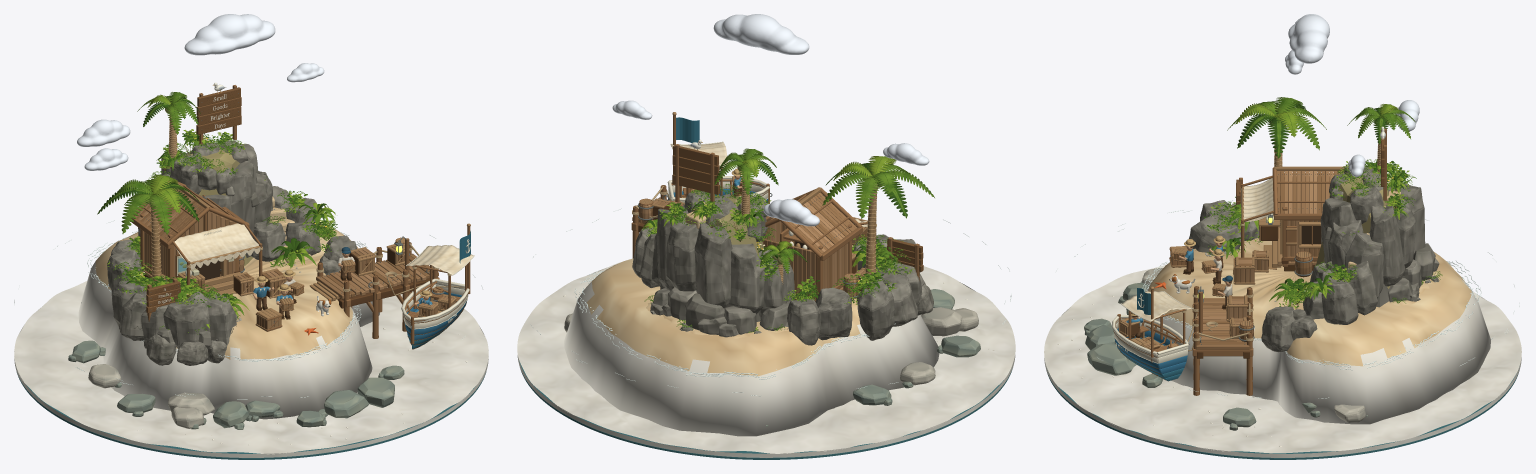
File: harbor-lite.glb
3 views of the same model, side by side, from view 1: azimuth 30°, elevation 25°; view 2: azimuth 150°, elevation 25°; view 3: azimuth 270°, elevation 25° (orthographic). The views are drawn at different scales.
Parts seen in each view (by area): view 1: SEABED | Sea floor | warm white fine coral sand, STATIC | REFINED | warm weathered granite, STATIC | Wet ivory sand on submerged beach slope, STATIC | Harbor | sand, STATIC | REFINED | living palm green, SEABED | Harbor | rock_dark, CLOUDS | Cloud | soft warm ivory.001, STATIC | Harbor | wood.001, STATIC | REFINED | deep palm green, STATIC | Harbor | wood_light, STATIC | REFINED | sunlit palm green, STATIC | Deep weathered sign boards (+19 smaller); view 2: STATIC | Wet ivory sand on submerged beach slope, SEABED | Sea floor | warm white fine coral sand, STATIC | REFINED | warm weathered granite, STATIC | Harbor | sand, STATIC | REFINED | living palm green, CLOUDS | Cloud | soft warm ivory.001, STATIC | REFINED | deep palm green, STATIC | Harbor | wood.001, STATIC | REFINED | sunlit palm green, SEABED | White sand cut edge, STATIC | Deep weathered sign boards, SEABED | Harbor | rock (+15 smaller); view 3: SEABED | Sea floor | warm white fine coral sand, STATIC | REFINED | warm weathered granite, STATIC | Wet ivory sand on submerged beach slope, STATIC | Harbor | sand, STATIC | REFINED | living palm green, STATIC | Harbor | wood.001, STATIC | REFINED | deep palm green, SEABED | Harbor | rock_dark, STATIC | Harbor | wood_light, CLOUDS | Cloud | soft warm ivory.001, STATIC | REFINED | sunlit palm green, SEABED | White sand cut edge (+19 smaller).
Part boxes in pixels (x1,y1,x2,y2): SEABED | Sea floor | warm white fine coral sand: (14,281,488,454); STATIC | REFINED | warm weathered granite: (107,140,356,365); STATIC | Wet ivory sand on submerged beach slope: (78,261,379,419); STATIC | Harbor | sand: (95,196,358,359); STATIC | REFINED | living palm green: (97,92,337,332); SEABED | Harbor | rock_dark: (68,302,404,429); CLOUDS | Cloud | soft warm ivory.001: (77,14,324,170); STATIC | Harbor | wood.001: (131,85,439,338); STATIC | REFINED | deep palm green: (97,98,337,334); STATIC | Harbor | wood_light: (161,181,404,331); STATIC | REFINED | sunlit palm green: (107,94,335,328); STATIC | Deep weathered sign boards: (146,87,241,313); STATIC | Wet ivory sand on submerged beach slope: (564,282,939,436); SEABED | Sea floor | warm white fine coral sand: (517,262,1015,453); STATIC | REFINED | warm weathered granite: (632,191,933,345); STATIC | Harbor | sand: (586,211,860,376); STATIC | REFINED | living palm green: (642,148,934,331); CLOUDS | Cloud | soft warm ivory.001: (612,14,929,226); STATIC | REFINED | deep palm green: (643,156,911,332); STATIC | Harbor | wood.001: (631,144,919,298); STATIC | REFINED | sunlit palm green: (641,156,912,332); SEABED | White sand cut edge: (517,267,1015,457); STATIC | Deep weathered sign boards: (672,145,923,271); SEABED | Harbor | rock: (564,307,978,385); SEABED | Sea floor | warm white fine coral sand: (1044,265,1521,453); STATIC | REFINED | warm weathered granite: (1189,165,1439,352); STATIC | Wet ivory sand on submerged beach slope: (1147,278,1490,424); STATIC | Harbor | sand: (1148,190,1471,366); STATIC | REFINED | living palm green: (1205,97,1442,306); STATIC | Harbor | wood.001: (1169,128,1386,395); STATIC | REFINED | deep palm green: (1204,103,1440,309); SEABED | Harbor | rock_dark: (1084,281,1367,430); STATIC | Harbor | wood_light: (1170,166,1347,338); CLOUDS | Cloud | soft warm ivory.001: (1285,14,1419,176); STATIC | REFINED | sunlit palm green: (1206,103,1422,308); SEABED | White sand cut edge: (1044,297,1521,457).
Size of the model in its own units: 12.34 by 9.61 by 12.34.
